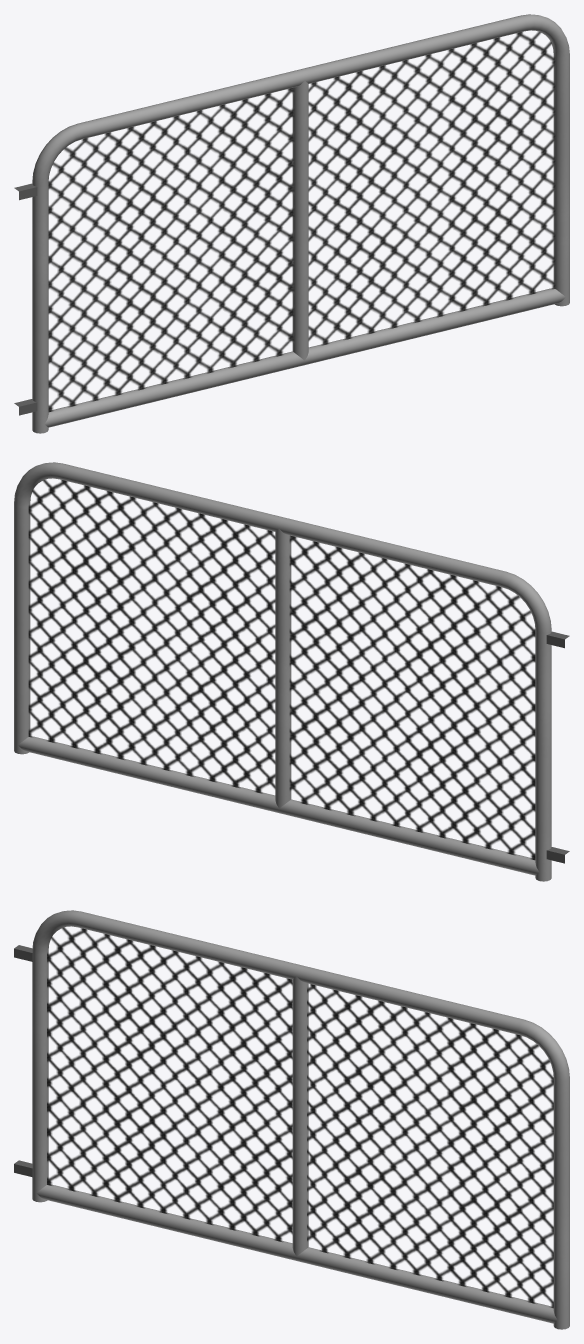
Rendered from fence-chainlink-gate-2m-noPost-cbj_LOD00.gltf.
The picture shows the model from 3 angles, top to bottom: view 1: azimuth 30°, elevation 25°; view 2: azimuth 150°, elevation 25°; view 3: azimuth 330°, elevation 25°; orthographic projection.
Parts seen in each view (by area): view 1: post.002; view 2: post.002; view 3: post.002.
Boxes of the visible parts, x1,y1,x2,y2 form: post.002: [14, 14, 569, 433]; post.002: [14, 462, 569, 881]; post.002: [14, 910, 569, 1329].
Bounding box in the file's own units: 1.96 × 1 × 0.05.
